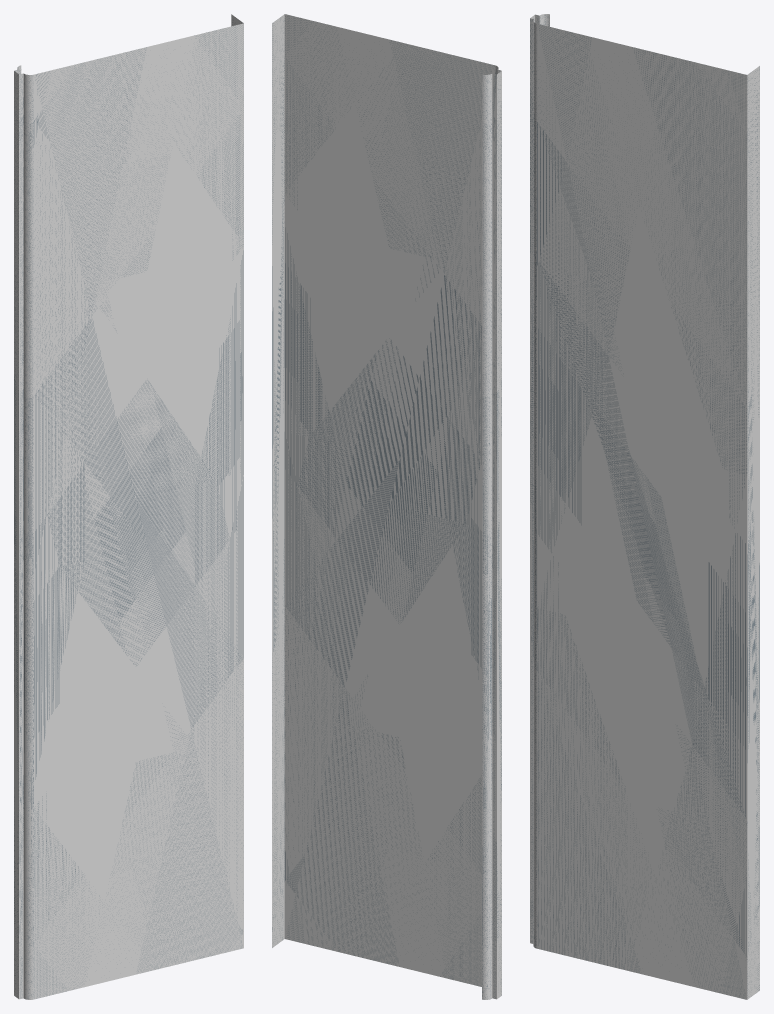
Rendered from PW_SingleFixColumn_os_T1_100x010x400.dae.
3 views of the same model, side by side, from view 1: azimuth 30°, elevation 25°; view 2: azimuth 150°, elevation 25°; view 3: azimuth 330°, elevation 25° (orthographic).
Parts seen in each view (by area): view 1: SketchUp; view 2: SketchUp; view 3: SketchUp.
Boxes of the visible parts, x1,y1,x2,y2 form: SketchUp: (14,14,243,999); SketchUp: (272,14,501,999); SketchUp: (530,14,759,999).
Size of the model in its own units: 39.37 by 3.94 by 157.
